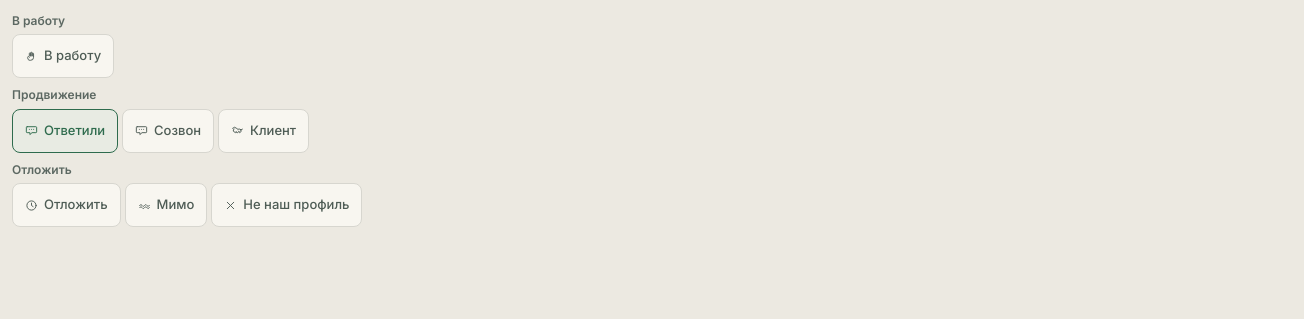
Test: FeedbackButtons motion and status feedback › keeps persisted status and the note draft recoverable after a rejected save
Click the button "Не наш профиль" at (287,205), box [211,183,362,227]
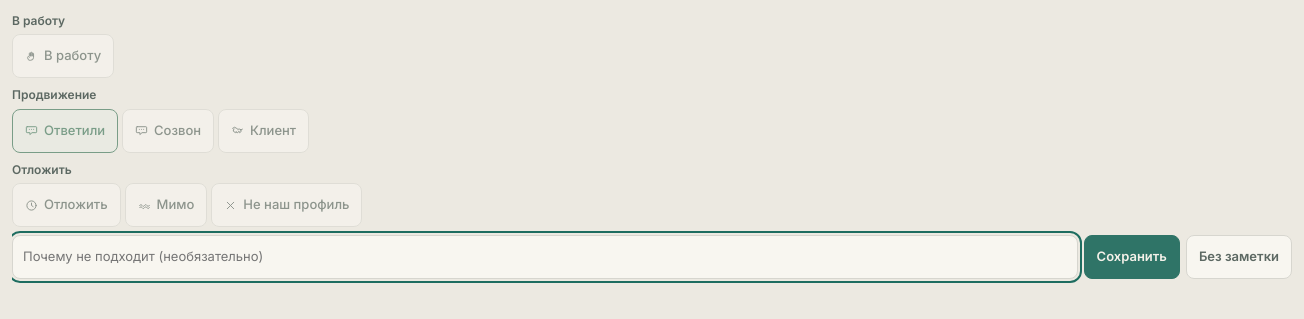
Type "  Слишком узкий профиль  " into the field named "Заметка к решению" at (545,257), box [12,235,1078,279]
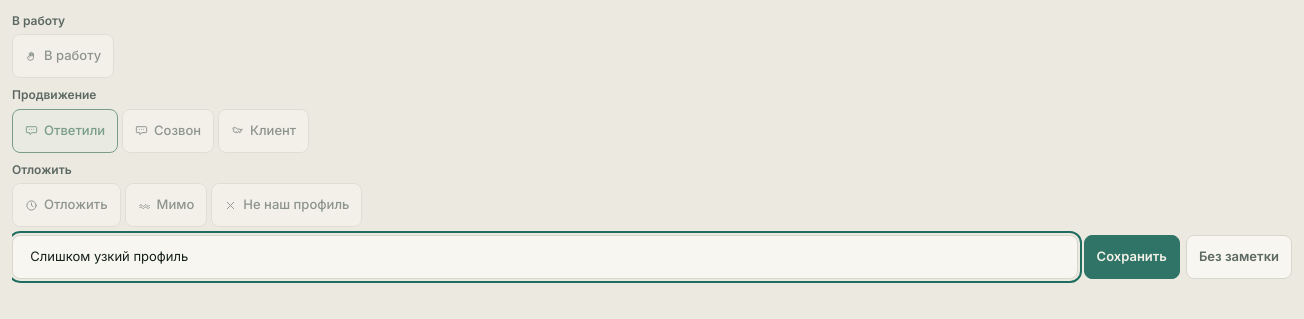
Click the button "Сохранить" at (1132,257), box [1084,235,1180,279]
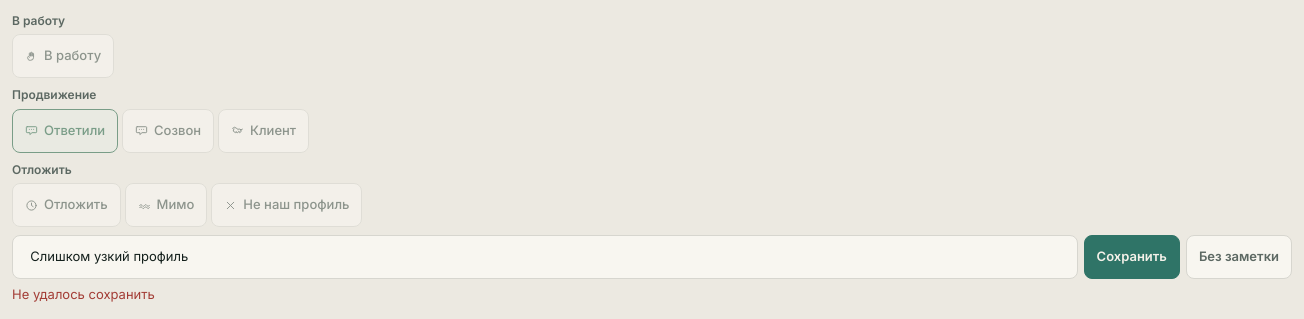
Now the message reads "Не удалось сохранить", box [12,286,155,302]
